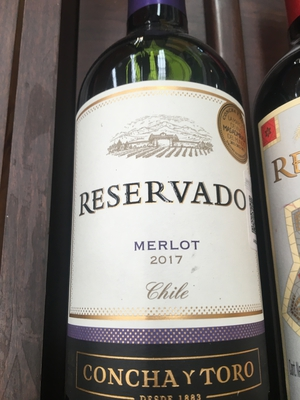reservado merlot: (57, 8, 264, 400)
